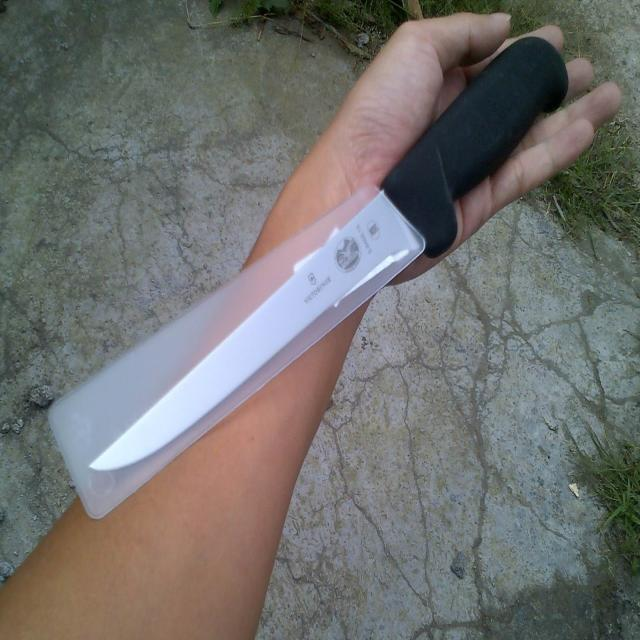Pisau: (85, 27, 580, 483)
